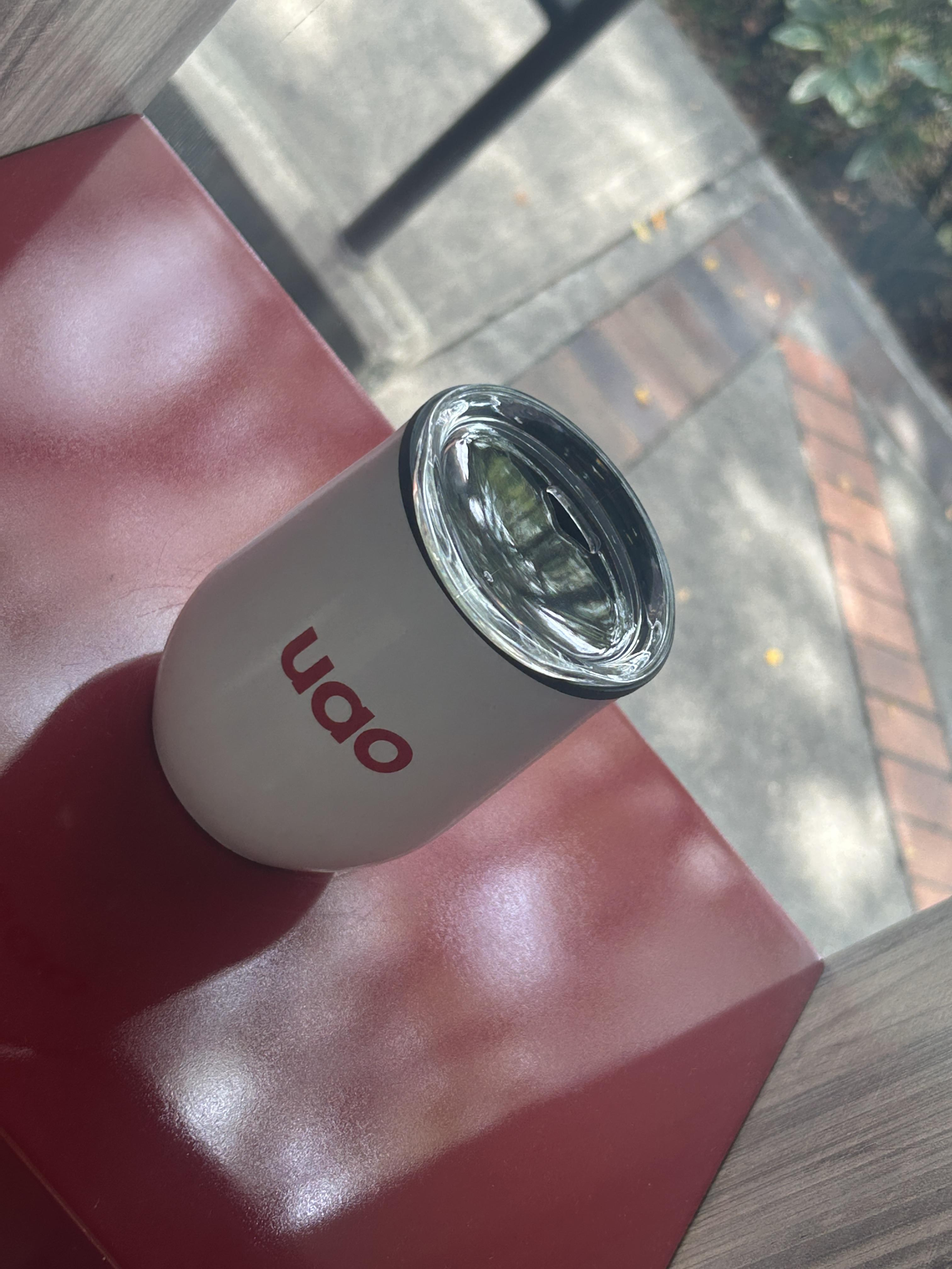vaso: (154, 385, 673, 870)
